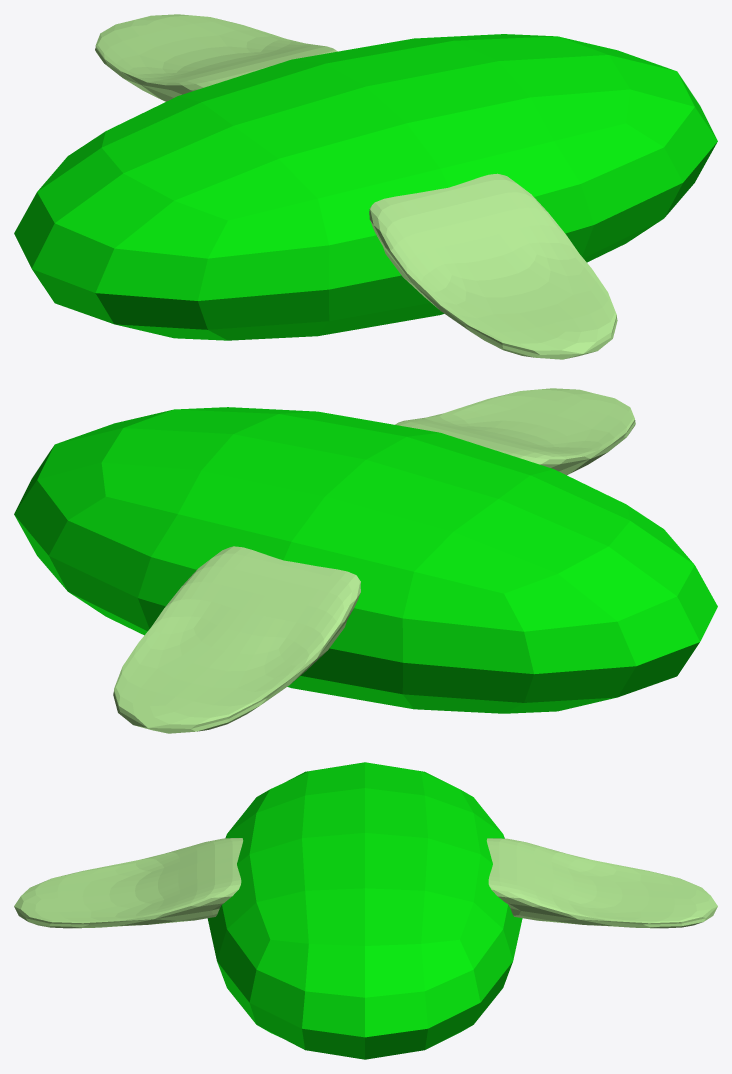
File: spaceship_simple.gltf
3 renders of one model, top to bottom at view 1: azimuth 30°, elevation 25°; view 2: azimuth 150°, elevation 25°; view 3: azimuth 270°, elevation 25°, orthographic. The views are drawn at different scales.
Visible parts, largest first — view 1: Cube.001; view 2: Cube.001; view 3: Cube.001.
Boxes of the visible parts, box(x1,y1,x2,y2) form: Cube.001: box(14, 14, 717, 359); Cube.001: box(14, 388, 717, 733); Cube.001: box(14, 762, 717, 1059).
Size of the model in its own units: 15.97 by 4.6 by 18.8.
